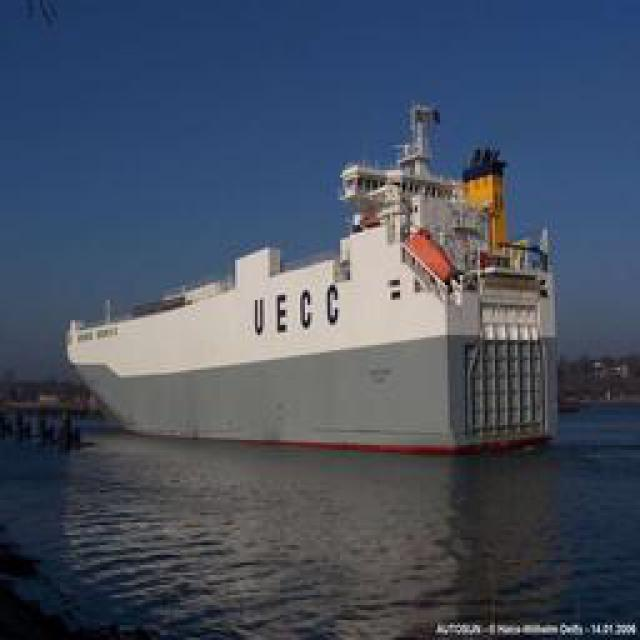Ship: (75, 95, 585, 450)
